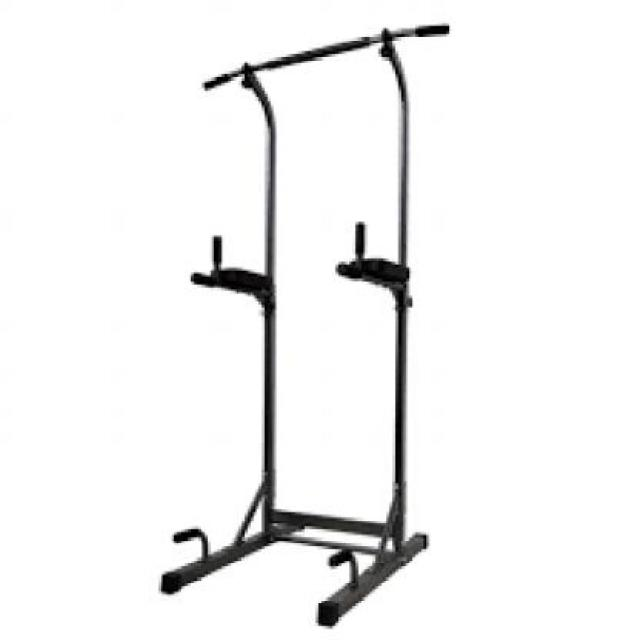chinning dipping: (162, 23, 450, 626)
